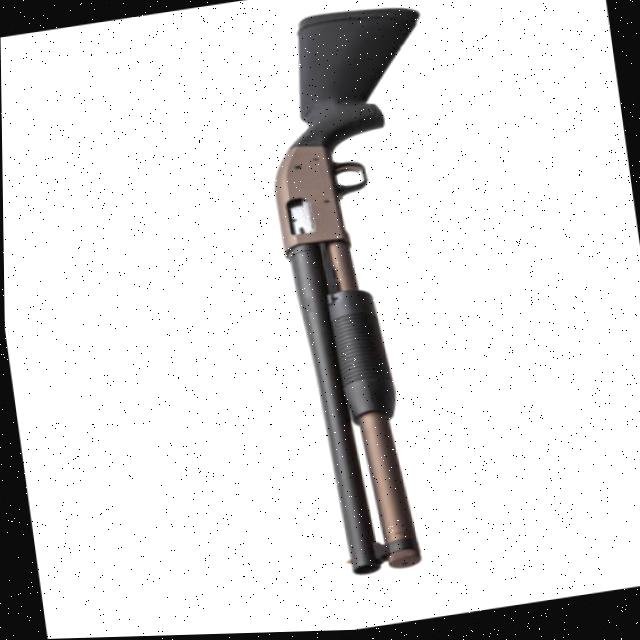firearm: (250, 0, 493, 585)
